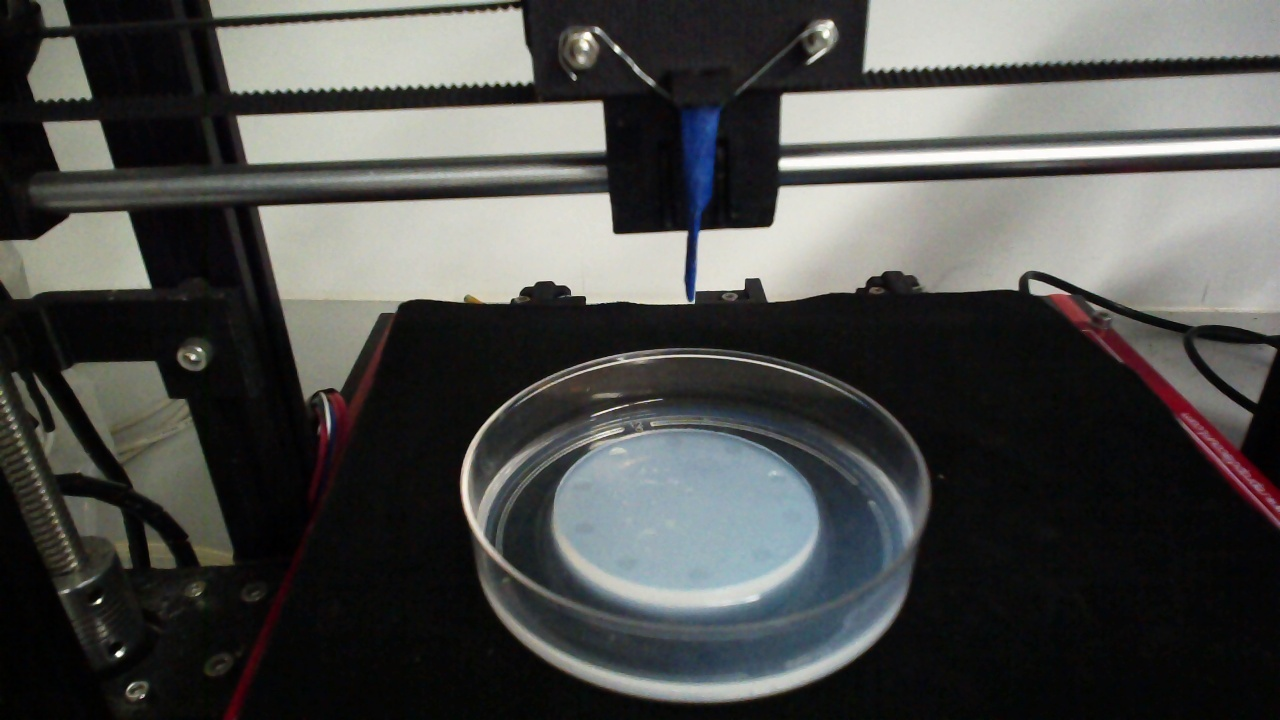groove: (748, 545, 771, 563), (614, 555, 638, 572), (686, 566, 709, 583), (781, 508, 802, 525), (569, 477, 593, 491), (662, 433, 684, 448), (766, 471, 787, 486), (572, 521, 596, 534), (608, 447, 628, 462), (723, 443, 744, 456)
needle: (684, 107, 721, 302)
